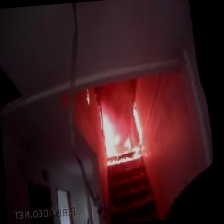fire: (97, 97, 145, 165)
